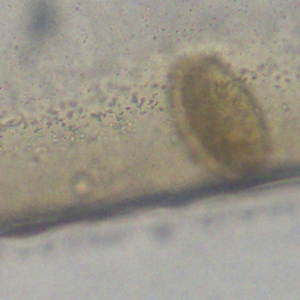Fasciola_hepatica_egg: (168, 52, 273, 185)
